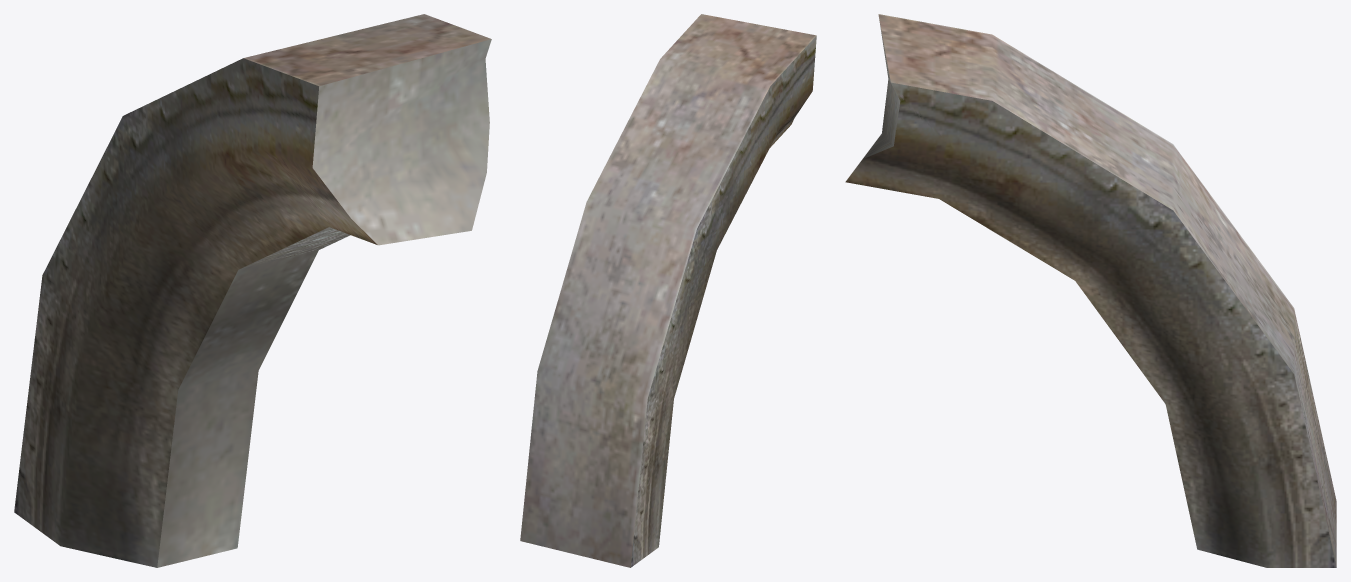
Rendered from entarch2_broken1.glb.
3 renders of one model, left to right at view 1: azimuth 30°, elevation 25°; view 2: azimuth 150°, elevation 25°; view 3: azimuth 270°, elevation 25°, orthographic. The views are drawn at different scales.
Visible parts, largest first — view 1: entarch2_broken1; view 2: entarch2_broken1; view 3: entarch2_broken1.
Boxes of the visible parts, x1,y1,x2,y2 form: entarch2_broken1: (14,14,491,567); entarch2_broken1: (520,14,816,567); entarch2_broken1: (845,14,1336,567).
Bounding box in the file's own units: 0.3429 × 1.18 × 1.07.
1 material, 1 textured.
